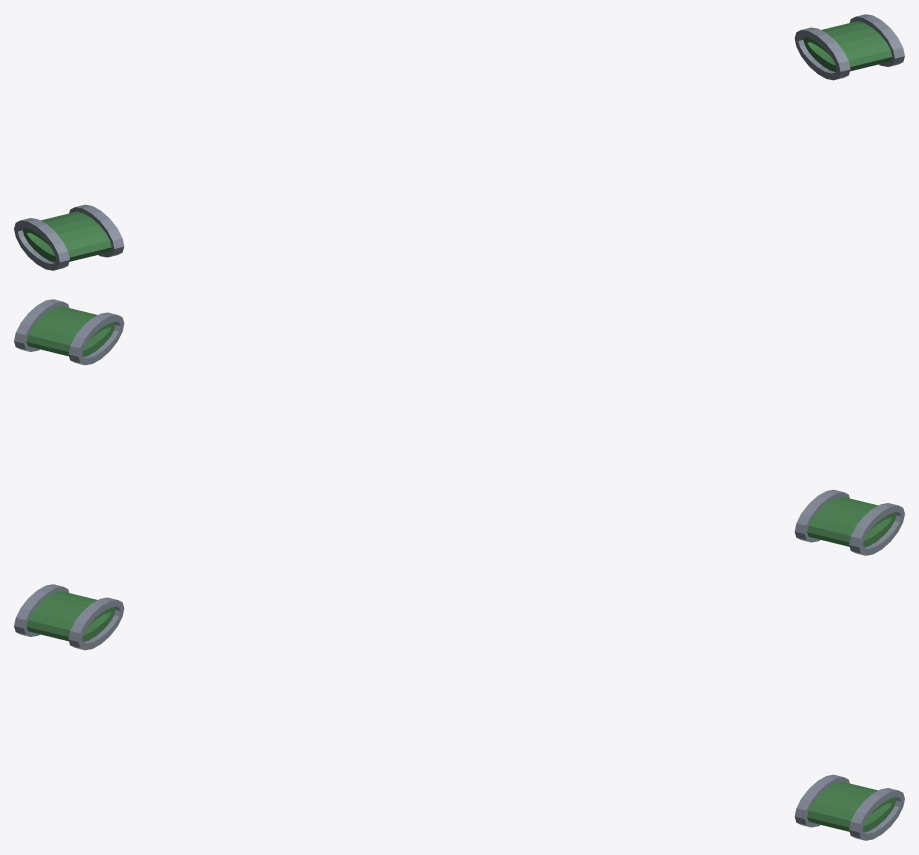
Rendered from armor_guard_arms_uncommon_human.glb.
3 renders of one model, top to bottom at view 1: azimuth 30°, elevation 25°; view 2: azimuth 150°, elevation 25°; view 3: azimuth 330°, elevation 25°, orthographic.
Visible parts, largest first — view 1: armor_guard_arms_uncommon_human__lowerarm_l, armor_guard_arms_uncommon_human__lowerarm_r; view 2: armor_guard_arms_uncommon_human__lowerarm_l, armor_guard_arms_uncommon_human__lowerarm_r; view 3: armor_guard_arms_uncommon_human__lowerarm_l, armor_guard_arms_uncommon_human__lowerarm_r.
Part boxes in pixels (left/top/right/bottom): armor_guard_arms_uncommon_human__lowerarm_l: left=794, top=14, right=904, bottom=80; armor_guard_arms_uncommon_human__lowerarm_r: left=14, top=204, right=124, bottom=270; armor_guard_arms_uncommon_human__lowerarm_l: left=14, top=299, right=124, bottom=365; armor_guard_arms_uncommon_human__lowerarm_r: left=794, top=489, right=904, bottom=555; armor_guard_arms_uncommon_human__lowerarm_l: left=794, top=774, right=904, bottom=840; armor_guard_arms_uncommon_human__lowerarm_r: left=14, top=584, right=124, bottom=650.
Size of the model in its own units: 118 by 5.02 by 11.06.
